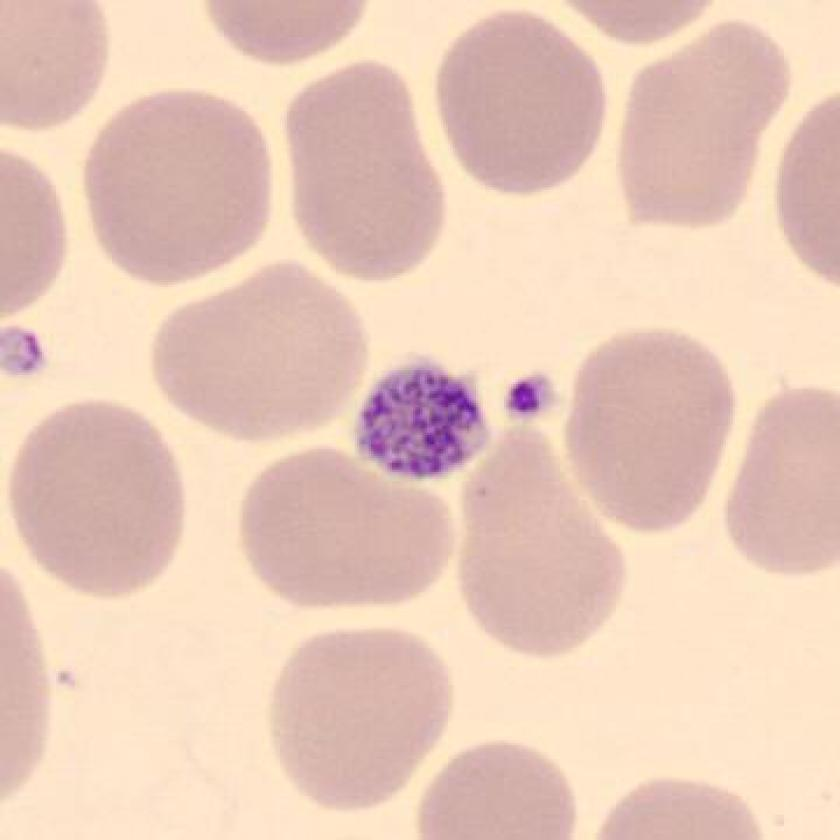platelets: (346, 346, 503, 496)
